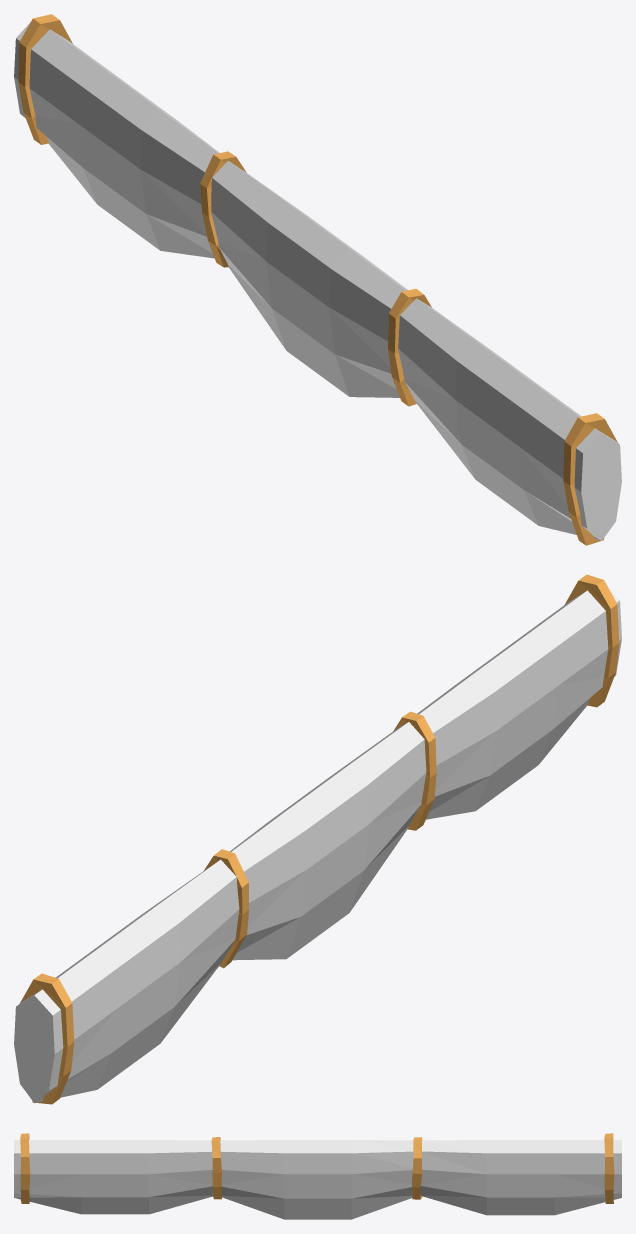
Rendered from sail_furl.fbx.
3 views of the same model, one above another, from view 1: azimuth 30°, elevation 25°; view 2: azimuth 150°, elevation 25°; view 3: azimuth 270°, elevation 25° (orthographic). The views are drawn at different scales.
Visible parts, largest first — view 1: sail_folded; view 2: sail_folded; view 3: sail_folded.
Boxes of the visible parts, x1,y1,x2,y2 form: sail_folded: (14,14,621,545); sail_folded: (14,574,621,1104); sail_folded: (14,1133,621,1219).
Bounding box in the file's own units: 0.3603 × 1.09 × 7.21.
